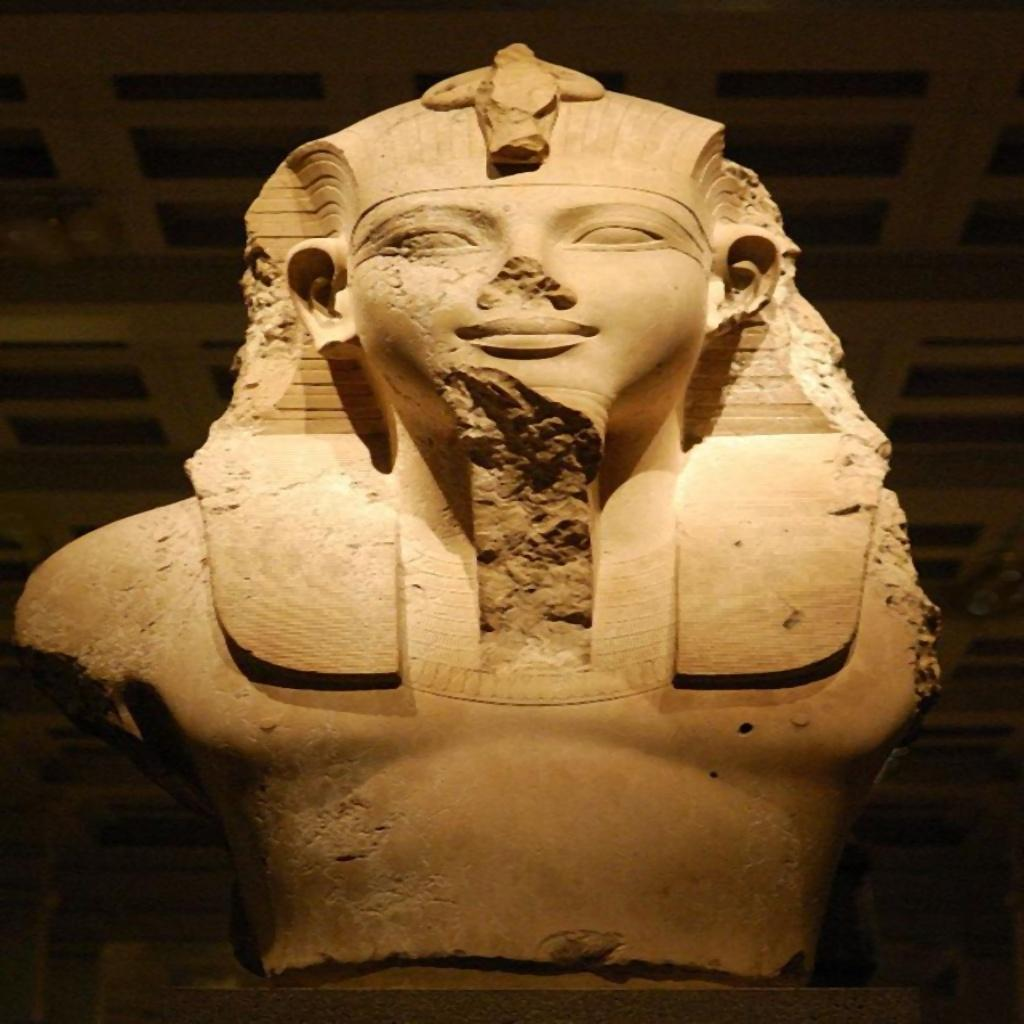Amenhotep III: (12, 40, 950, 988)
